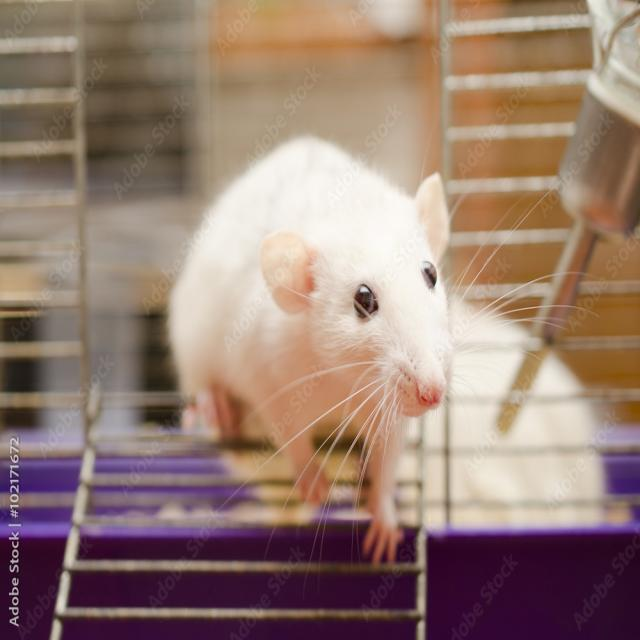rodents: (170, 118, 475, 515)
